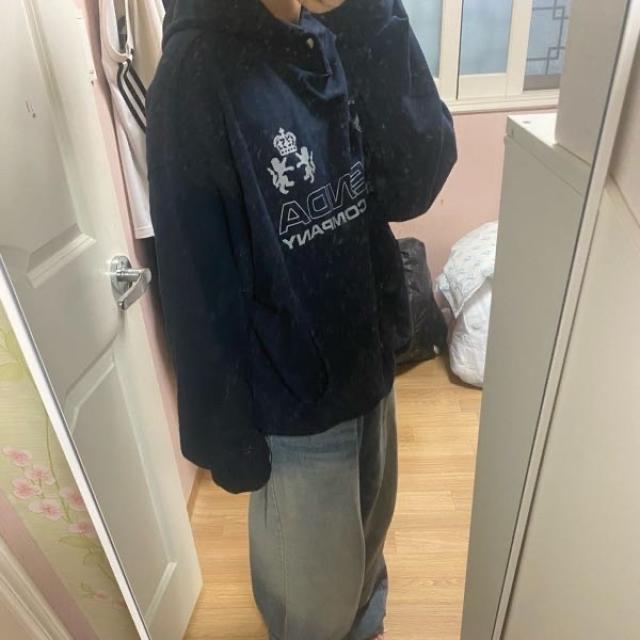denimpants: (248, 380, 401, 640)
hoodies: (144, 0, 460, 497)
